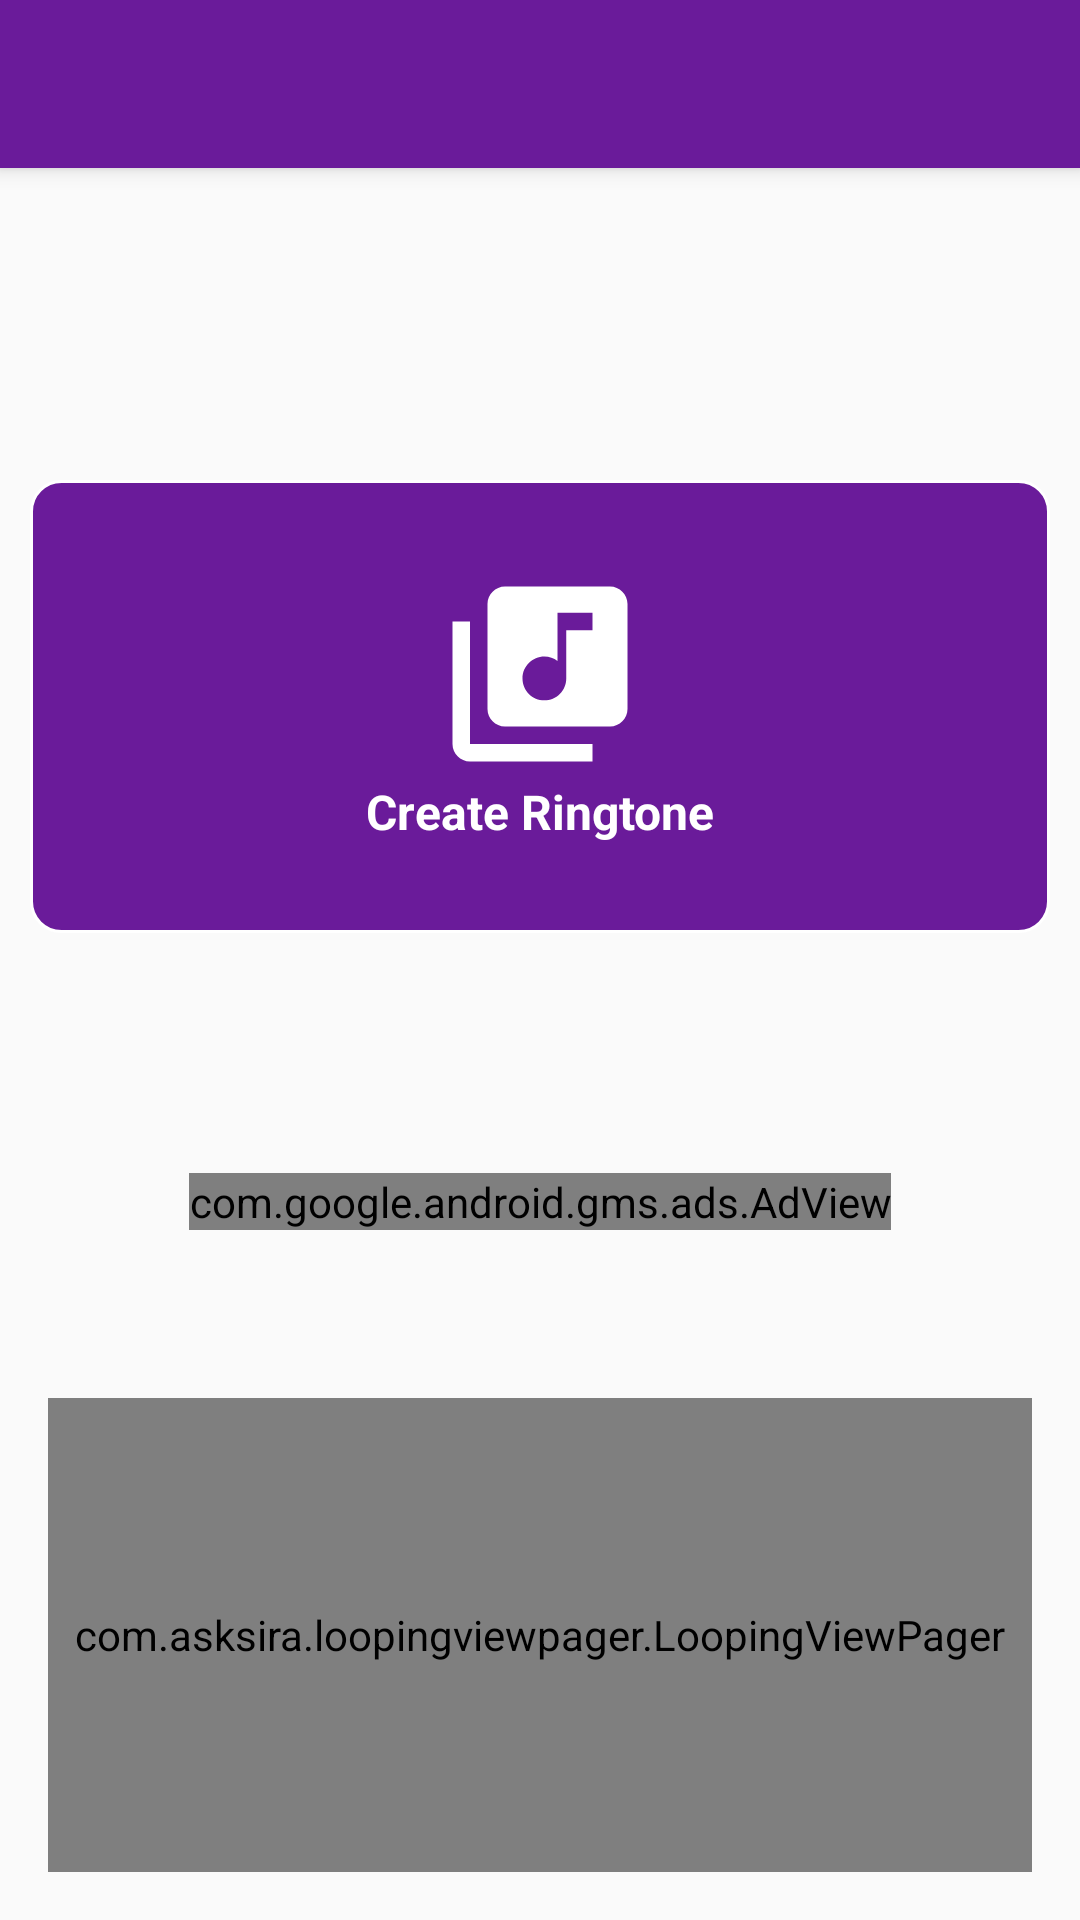

Where to tap for icons on this 1080px×1920px app screen, as (x,y):
library music: (540,674)
